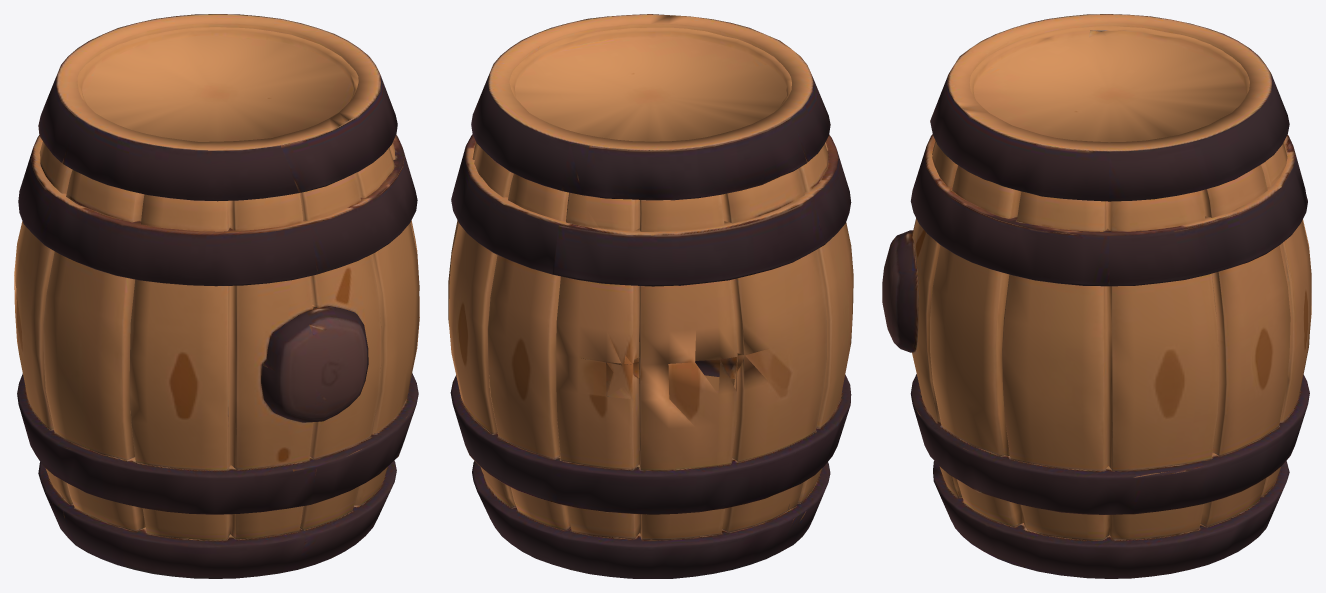
The model's file is barrel_2.glb.
3 renders of one model, left to right at view 1: azimuth 30°, elevation 25°; view 2: azimuth 150°, elevation 25°; view 3: azimuth 270°, elevation 25°, orthographic.
Parts seen in each view (by area): view 1: Mesh_0; view 2: Mesh_0; view 3: Mesh_0.
Part boxes in pixels (x1=…): Mesh_0: x1=14, y1=14, x2=419, y2=578; Mesh_0: x1=448, y1=14, x2=853, y2=578; Mesh_0: x1=882, y1=14, x2=1311, y2=578.
Size of the model in its own units: 0.6057 by 0.7 by 0.6371.
1 material, 1 textured.
